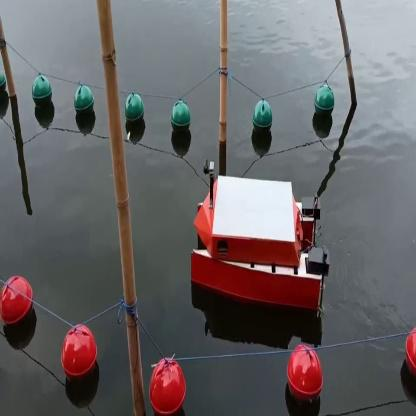green_buoy: (168, 103, 192, 141), (123, 94, 145, 134), (30, 76, 52, 112), (72, 85, 92, 124), (252, 100, 272, 136), (314, 86, 334, 122)
red_buoy: (287, 347, 324, 401), (63, 326, 98, 380), (0, 275, 33, 331), (151, 360, 185, 410), (406, 328, 415, 391)
